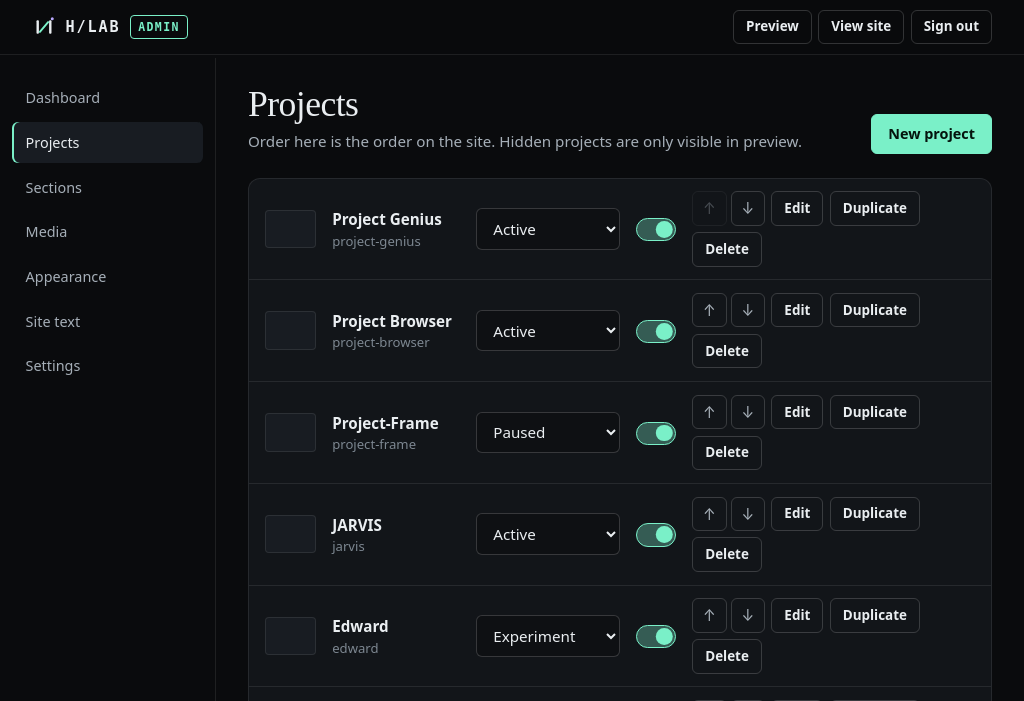
project manager list › reorders with the move buttons and persists the order
Expected: the heading "Projects" is shown, [248,84,358,124]
Click the button named "Move Project Browser up" at {"x": 709, "y": 310}, box [692,293,727,328]
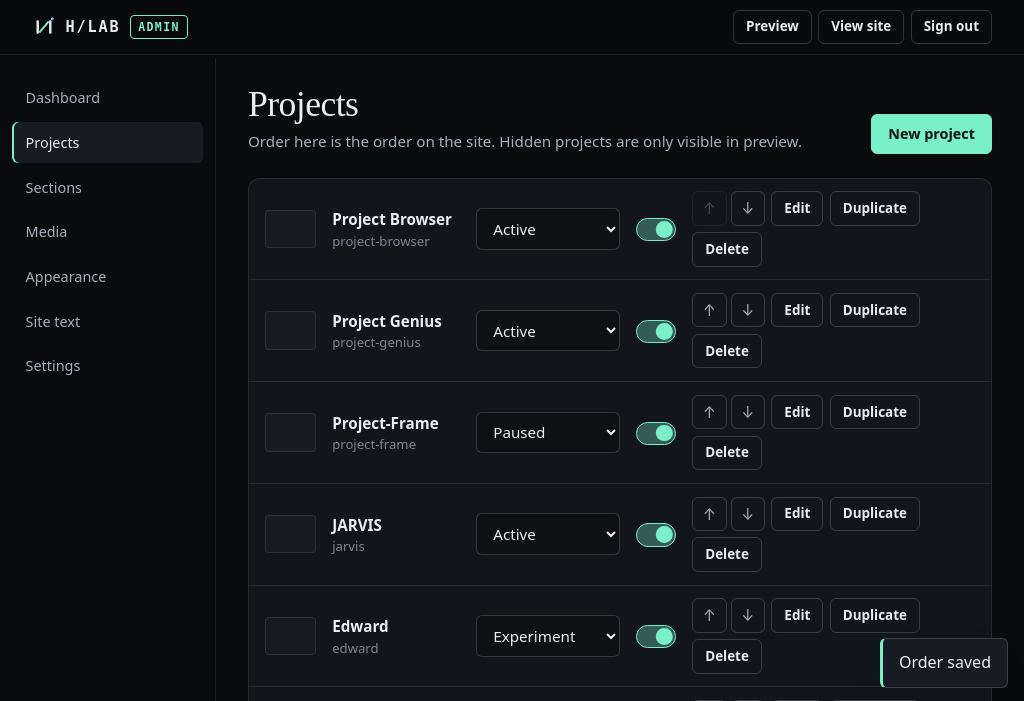
Result: the text "Order saved" is shown at [880,638,1008,688]
